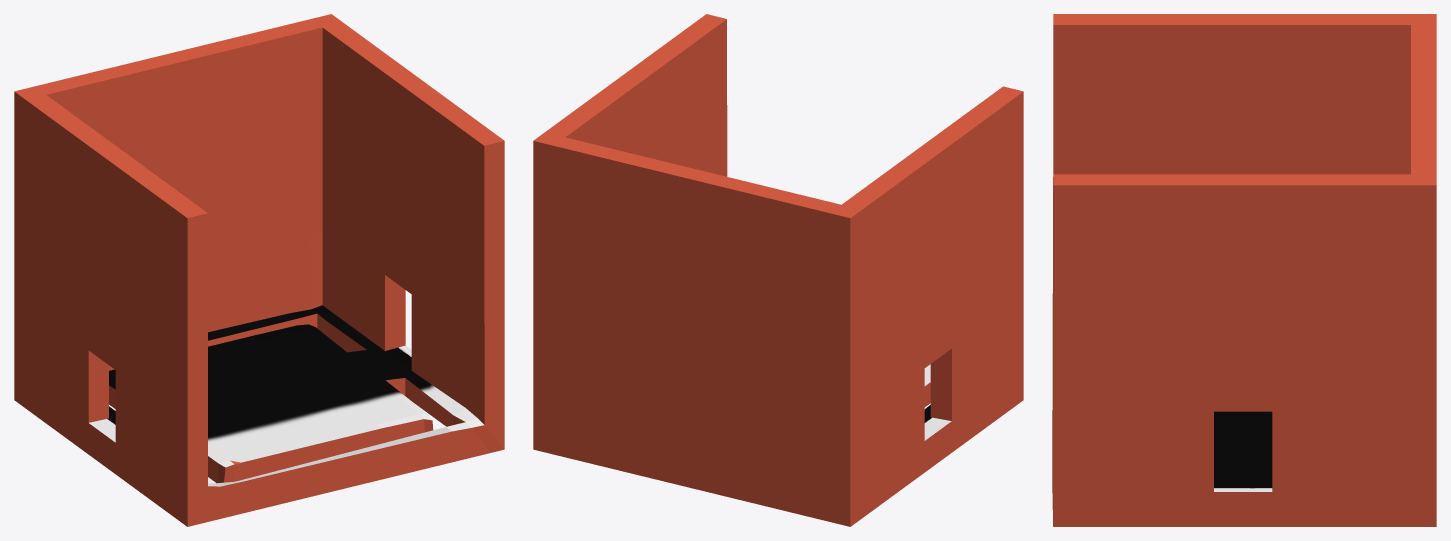
File: FirstLevel_room2.fbx
3 views of the same model, side by side, from view 1: azimuth 30°, elevation 25°; view 2: azimuth 150°, elevation 25°; view 3: azimuth 270°, elevation 25° (orthographic). The views are drawn at different scales.
Parts seen in each view (by area): view 1: Cube; view 2: Cube; view 3: Cube.
Boxes of the visible parts, x1,y1,x2,y2 form: Cube: (14,14,504,526); Cube: (533,14,1023,526); Cube: (1052,14,1436,526).
Bounding box in the file's own units: 2115 × 1966 × 2005.
2 materials, 1 textured.
